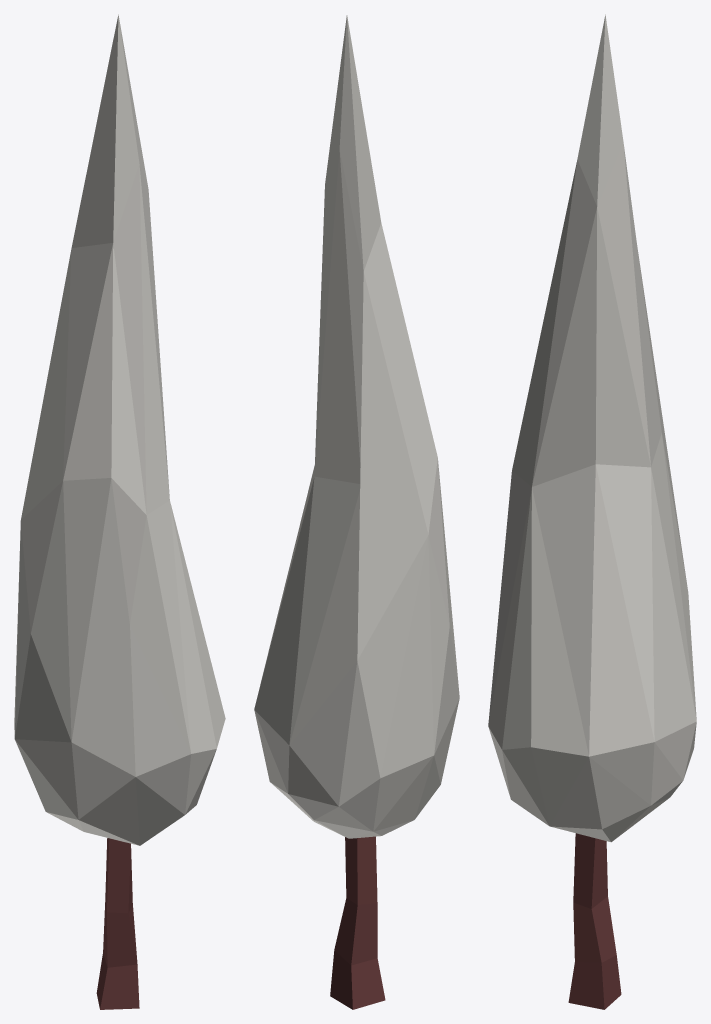
The model's file is Cypress_M_flat.glb.
3 views of the same model, side by side, from view 1: azimuth 30°, elevation 25°; view 2: azimuth 150°, elevation 25°; view 3: azimuth 270°, elevation 25° (orthographic).
Parts seen in each view (by area): view 1: Cypress middle f; view 2: Cypress middle f; view 3: Cypress middle f.
Boxes of the visible parts, x1=… form: Cypress middle f: x1=14, y1=14, x2=225, y2=1009; Cypress middle f: x1=254, y1=15, x2=459, y2=1009; Cypress middle f: x1=488, y1=14, x2=696, y2=1009.
Bounding box in the file's own units: 2.45 × 12.75 × 2.44.
